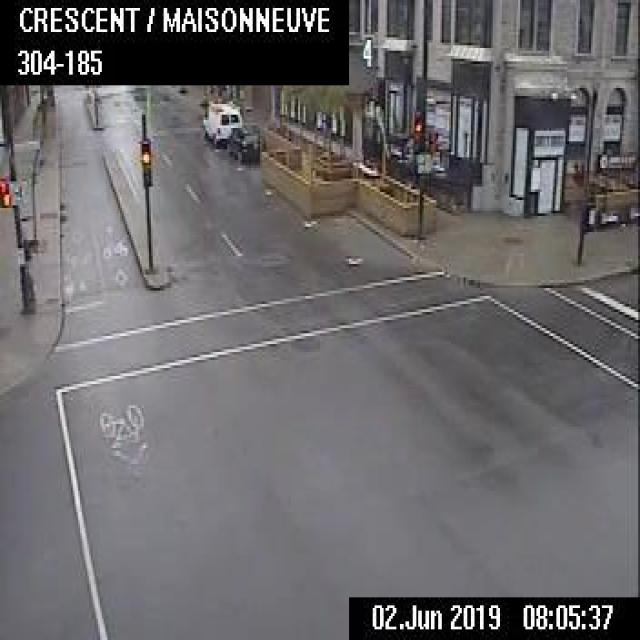vehicle: (201, 96, 241, 145), (226, 124, 264, 161)
